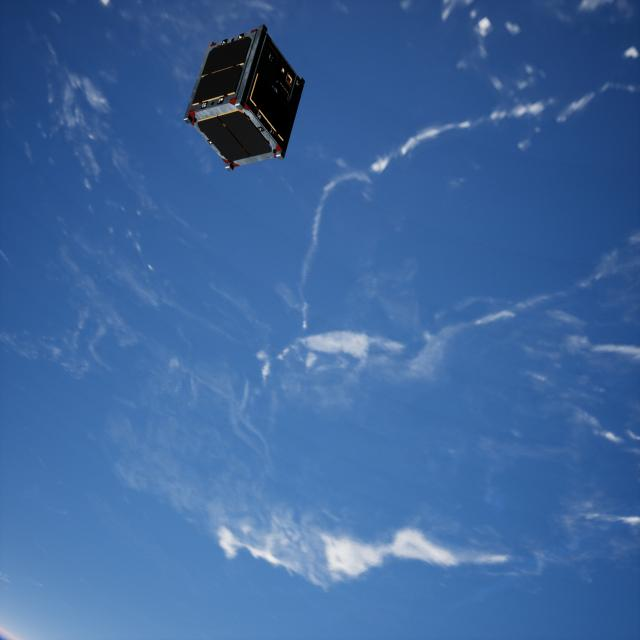medium_debris: (187, 15, 307, 176)
